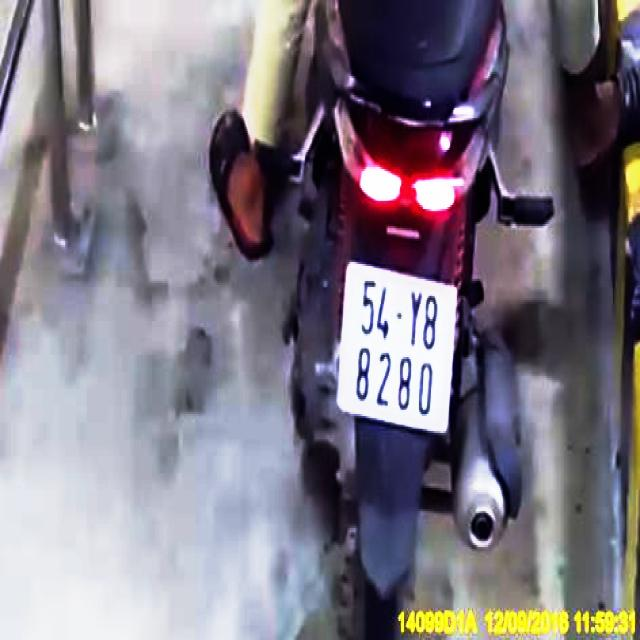license_plate: (338, 261, 458, 436)
